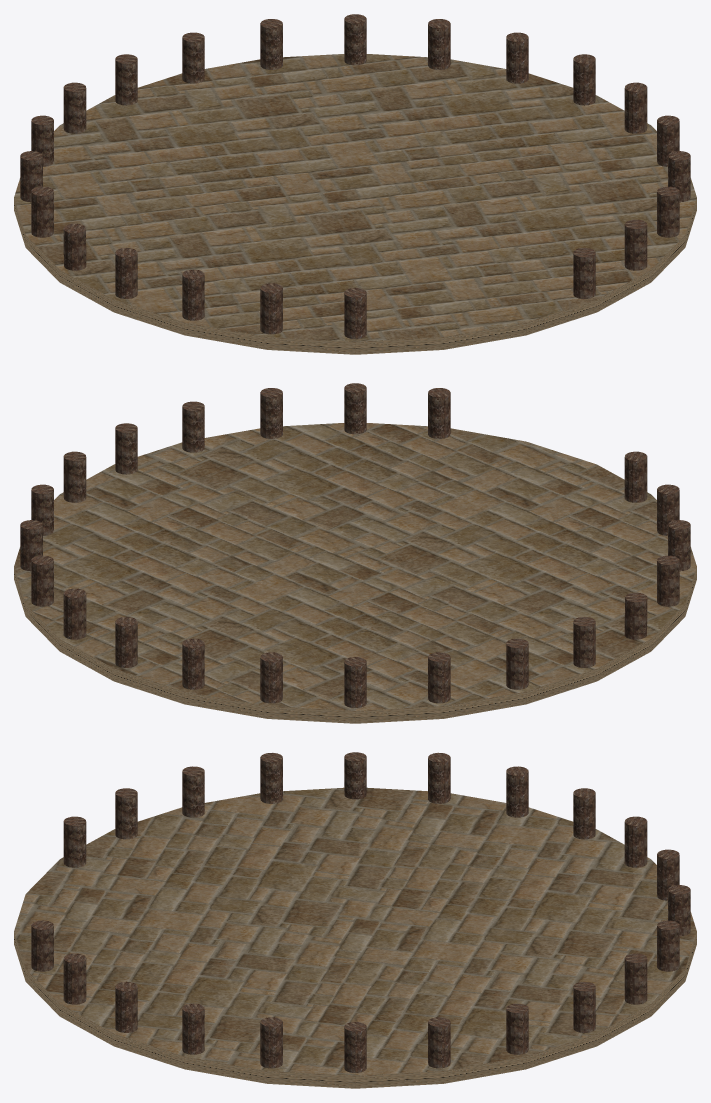
The model's file is Amazonie_Plateforme.fbx.
3 renders of one model, top to bottom at view 1: azimuth 30°, elevation 25°; view 2: azimuth 150°, elevation 25°; view 3: azimuth 270°, elevation 25°, orthographic.
Visible parts, largest first — view 1: Cylinder, Cylinder.008, Cylinder.019, Cylinder.004, Cylinder.020, Cylinder.003, Cylinder.021, Cylinder.016, Cylinder.012, Cylinder.011, Cylinder.007, Cylinder.002 (+11 smaller); view 2: Cylinder, Cylinder.015, Cylinder.010, Cylinder.004, Cylinder.018, Cylinder.005, Cylinder.021, Cylinder.020, Cylinder.017, Cylinder.013, Cylinder.008, Cylinder.006 (+11 smaller); view 3: Cylinder, Cylinder.008, Cylinder.015, Cylinder.019, Cylinder.010, Cylinder.005, Cylinder.003, Cylinder.006, Cylinder.002, Cylinder.022, Cylinder.018, Cylinder.012 (+11 smaller).
Part boxes in pixels (x1=…): Cylinder: x1=14, y1=54, x2=696, y2=354; Cylinder.008: x1=624, y1=219, x2=647, y2=270; Cylinder.019: x1=63, y1=82, x2=86, y2=133; Cylinder.004: x1=624, y1=82, x2=647, y2=133; Cylinder.020: x1=115, y1=54, x2=137, y2=105; Cylinder.003: x1=573, y1=54, x2=595, y2=105; Cylinder.021: x1=182, y1=32, x2=204, y2=83; Cylinder.016: x1=31, y1=186, x2=53, y2=237; Cylinder.012: x1=182, y1=269, x2=204, y2=320; Cylinder.011: x1=260, y1=283, x2=282, y2=334; Cylinder.007: x1=657, y1=186, x2=679, y2=237; Cylinder.002: x1=506, y1=32, x2=528, y2=83; Cylinder: x1=14, y1=423, x2=696, y2=723; Cylinder.015: x1=63, y1=588, x2=86, y2=639; Cylinder.010: x1=624, y1=451, x2=647, y2=502; Cylinder.004: x1=63, y1=451, x2=86, y2=502; Cylinder.018: x1=428, y1=652, x2=450, y2=703; Cylinder.005: x1=115, y1=423, x2=137, y2=474; Cylinder.021: x1=182, y1=638, x2=204, y2=689; Cylinder.020: x1=260, y1=652, x2=282, y2=703; Cylinder.017: x1=506, y1=638, x2=528, y2=689; Cylinder.013: x1=657, y1=555, x2=679, y2=606; Cylinder.008: x1=344, y1=383, x2=366, y2=434; Cylinder.006: x1=182, y1=401, x2=204, y2=452; Cylinder: x1=14, y1=787, x2=696, y2=1088; Cylinder.008: x1=63, y1=953, x2=86, y2=1004; Cylinder.015: x1=624, y1=953, x2=647, y2=1004; Cylinder.019: x1=624, y1=816, x2=647, y2=867; Cylinder.010: x1=63, y1=816, x2=86, y2=867; Cylinder.005: x1=260, y1=1017, x2=282, y2=1068; Cylinder.003: x1=428, y1=1017, x2=450, y2=1068; Cylinder.006: x1=182, y1=1003, x2=204, y2=1054; Cylinder.002: x1=506, y1=1003, x2=528, y2=1054; Cylinder.022: x1=657, y1=920, x2=679, y2=971; Cylinder.018: x1=573, y1=788, x2=595, y2=839; Cylinder.012: x1=182, y1=766, x2=204, y2=817.
Size of the model in its own units: 120 by 10.8 by 120.
